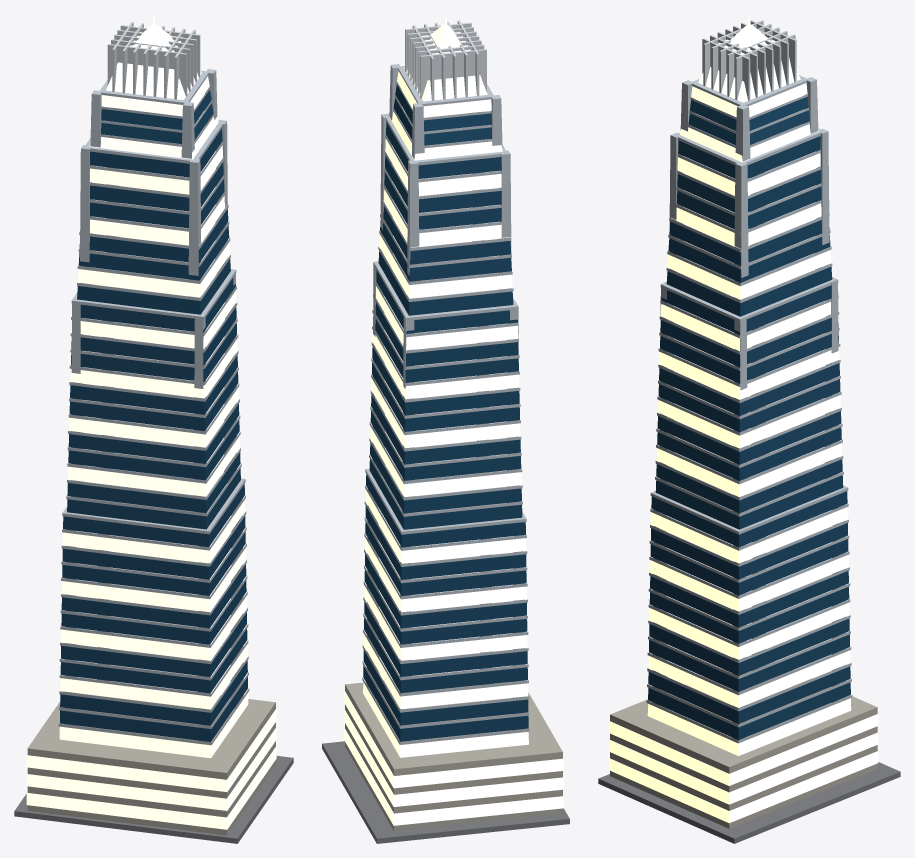
Rendered from vietcombank_tower.glb.
3 views of the same model, side by side, from view 1: azimuth 30°, elevation 25°; view 2: azimuth 150°, elevation 25°; view 3: azimuth 270°, elevation 25° (orthographic).
Visible parts, largest first — view 1: vietcombank_tower; view 2: vietcombank_tower; view 3: vietcombank_tower.
Boxes of the visible parts, <box> form: vietcombank_tower: <box>14,14,293,843</box>; vietcombank_tower: <box>322,14,569,843</box>; vietcombank_tower: <box>598,14,900,843</box>.
Size of the model in its own units: 73.39 by 206 by 73.65.
